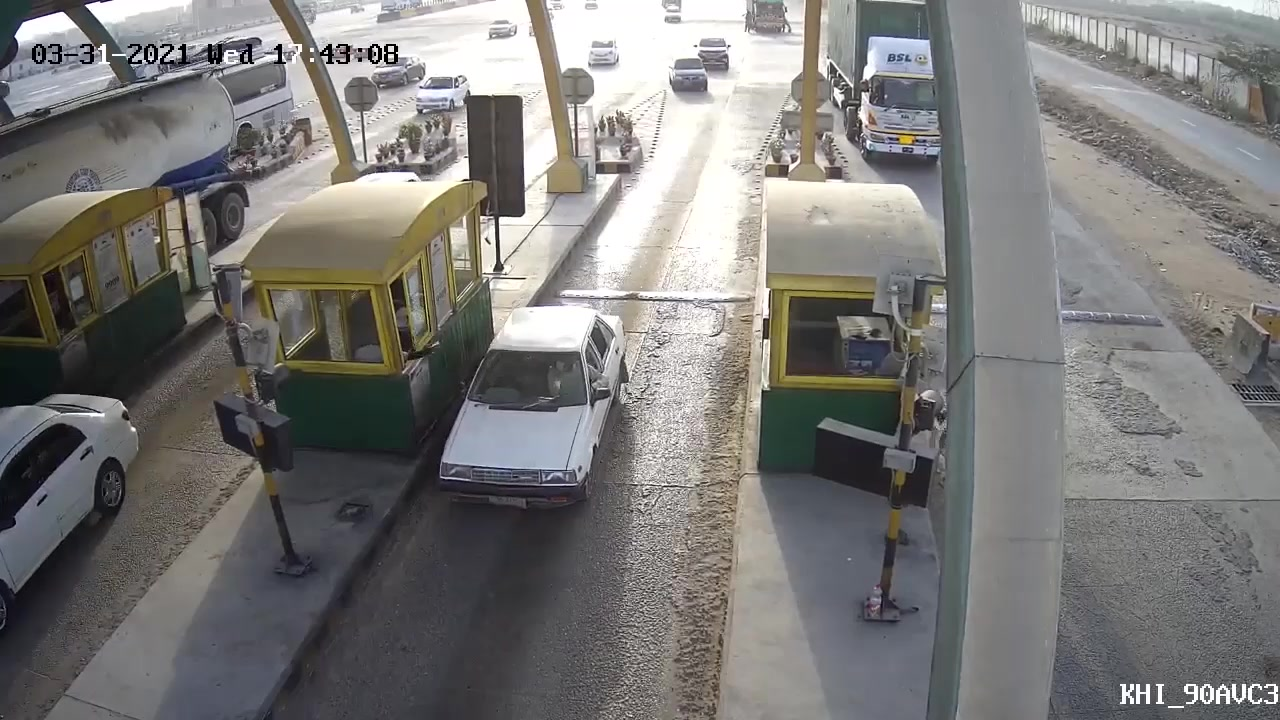F1: (443, 292, 633, 548)
